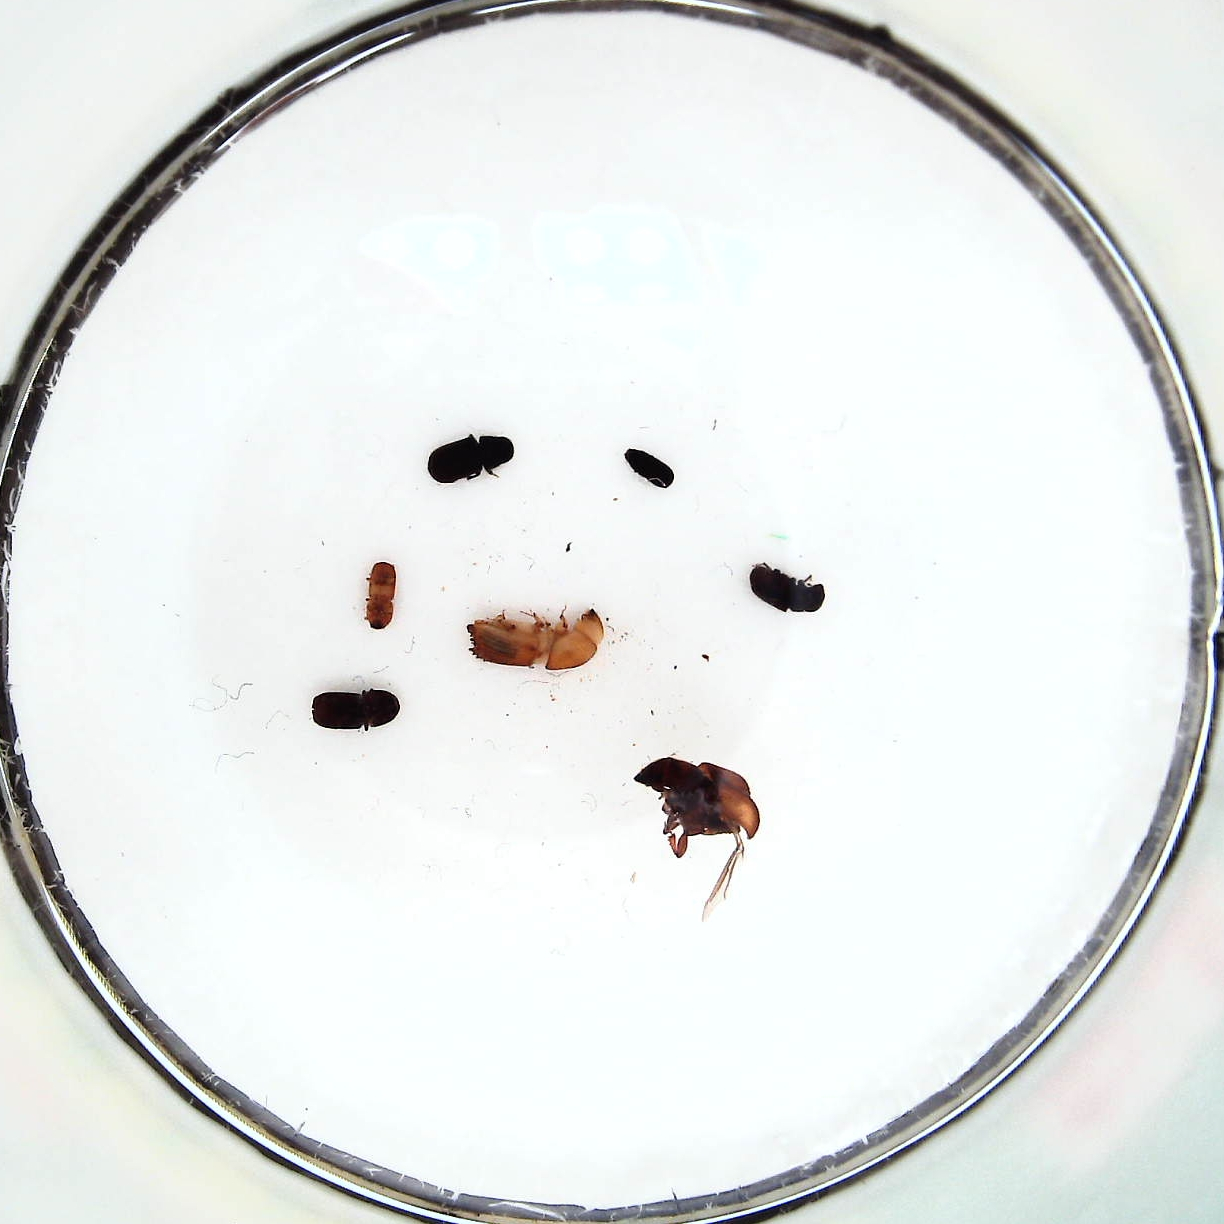Boerner: (466, 608, 608, 674)
Leconte: (636, 755, 759, 853)
Linnaeus: (309, 683, 402, 733)
acuminatus: (364, 556, 402, 628)
armandi: (427, 433, 518, 486), (747, 558, 831, 615)
coleoptera: (622, 443, 676, 492)
